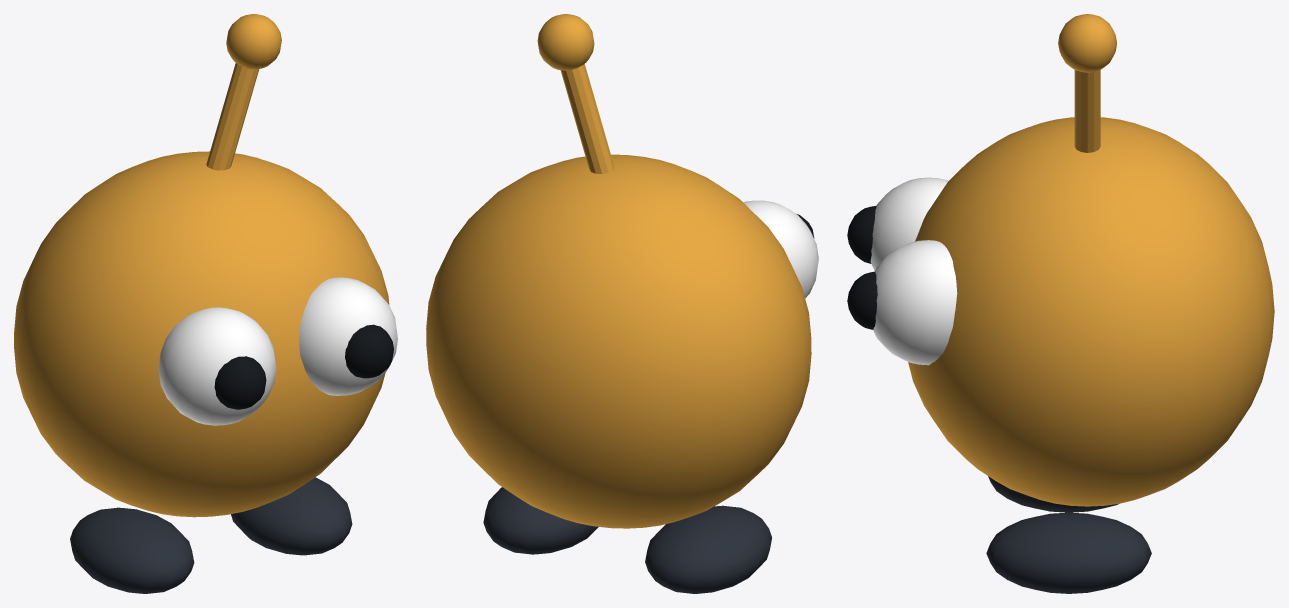
Rendered from robot-rebond.fbx.
The picture shows the model from 3 angles, left to right: view 1: azimuth 30°, elevation 25°; view 2: azimuth 150°, elevation 25°; view 3: azimuth 270°, elevation 25°; orthographic projection. The views are drawn at different scales.
Parts seen in each view (by area): view 1: robot-rebond; view 2: robot-rebond; view 3: robot-rebond.
Boxes of the visible parts, <box> form: robot-rebond: <box>14,14,397,593</box>; robot-rebond: <box>426,14,818,593</box>; robot-rebond: <box>847,14,1274,593</box>.
Size of the model in its own units: 110 by 166 by 116.
